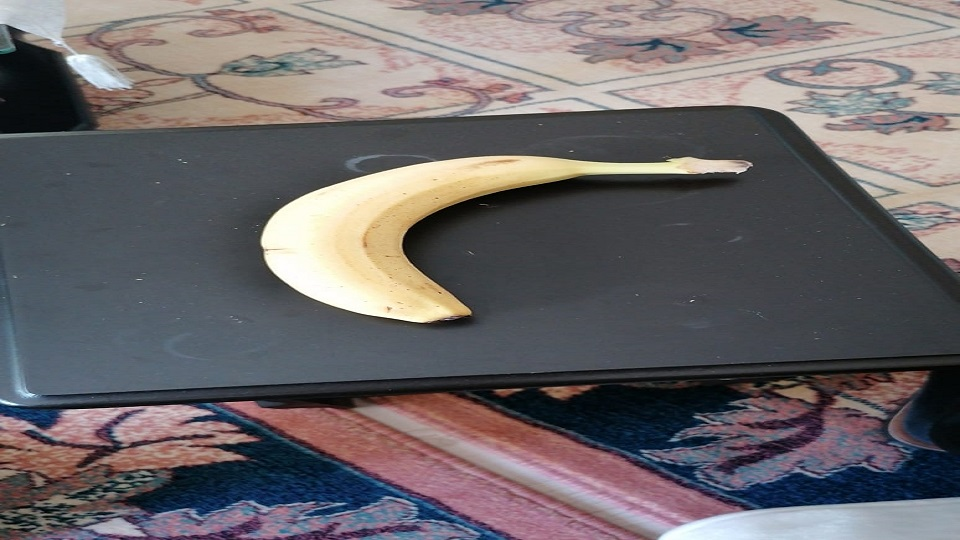muz: (259, 153, 750, 327)
